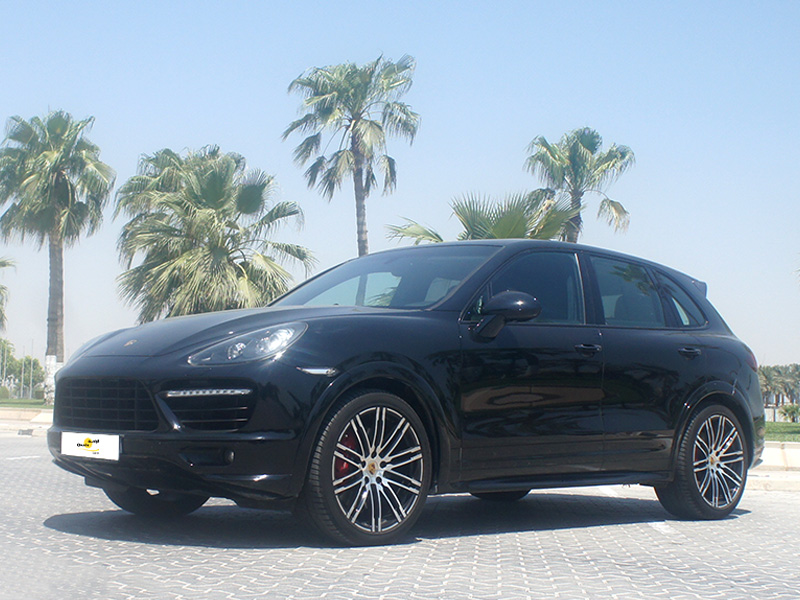su7: (48, 229, 772, 529)
